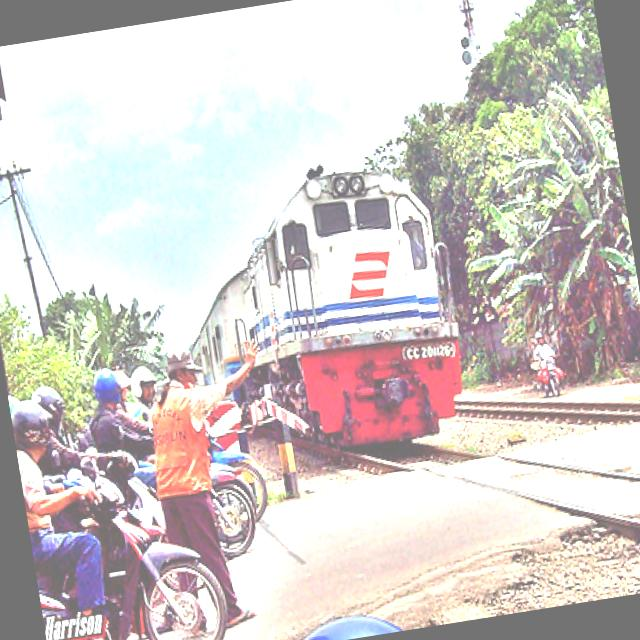Vehicle: (19, 437, 236, 640), (207, 464, 262, 564), (103, 444, 162, 535), (212, 442, 272, 528), (534, 356, 568, 399), (136, 458, 161, 501), (204, 424, 228, 454)
